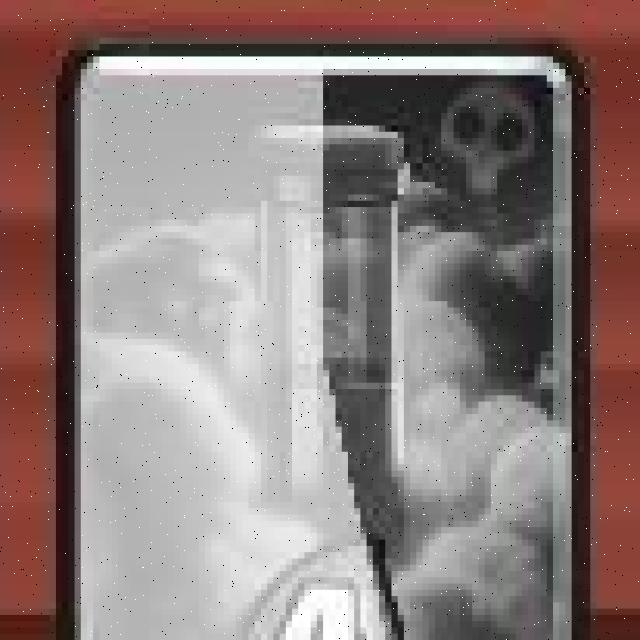Poison: (63, 54, 578, 640)
